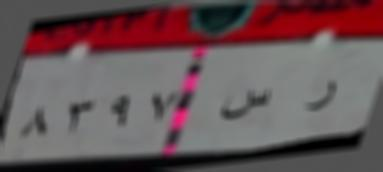3: (60, 91, 96, 136)
7: (148, 84, 179, 123)
8: (18, 102, 51, 145)
9: (104, 87, 134, 132)
raa: (298, 73, 339, 117)
seen: (220, 84, 274, 124)
